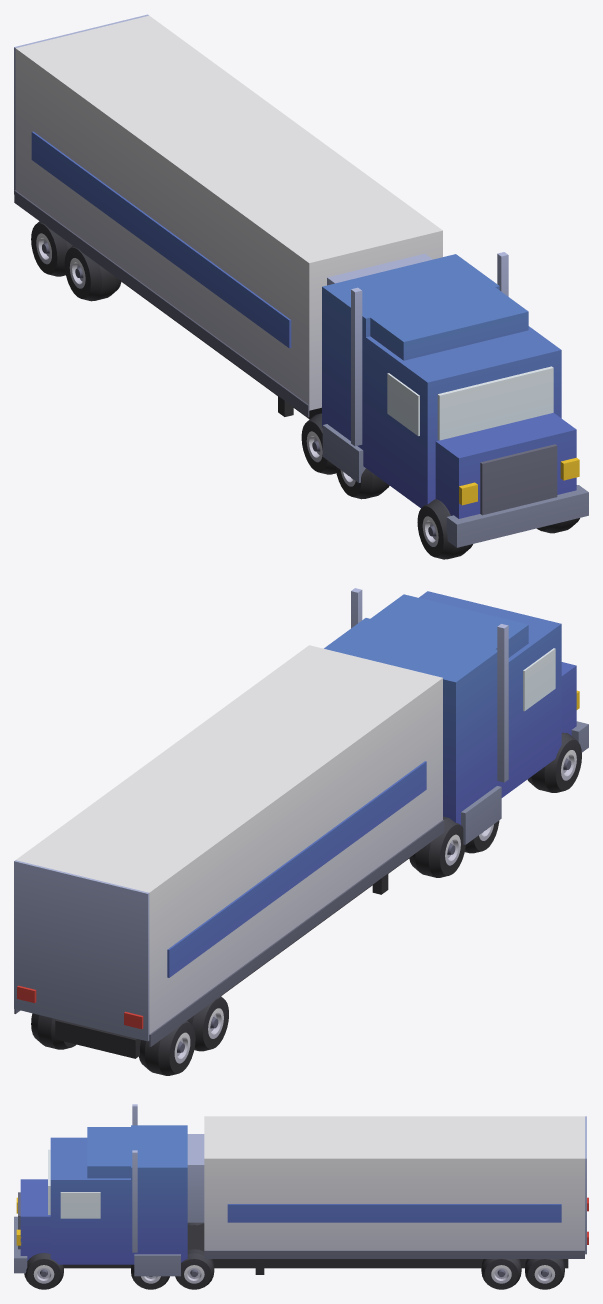
Rendered from reefer-A.glb.
3 renders of one model, top to bottom at view 1: azimuth 30°, elevation 25°; view 2: azimuth 150°, elevation 25°; view 3: azimuth 270°, elevation 25°, orthographic. The views are drawn at different scales.
Visible parts, largest first — view 1: body, wheel--3.0-l, wheel-3.85-l, wheel--3.65-l, wheel-1.6-l, wheel-2.25-l; view 2: body, wheel--3.65-l, wheel-1.6-l, wheel-3.85-l, wheel--3.0-l, wheel--3.65-r; view 3: body, wheel-1.6-r, wheel-3.85-r, wheel--3.0-r, wheel--3.65-r, wheel-2.25-r.
Boxes of the visible parts, left/top/right/bottom form: body: left=14, top=14, right=588, bottom=547; wheel--3.0-l: left=64, top=246, right=121, bottom=301; wheel-3.85-l: left=417, top=499, right=472, bottom=559; wheel--3.65-l: left=31, top=221, right=72, bottom=276; wheel-1.6-l: left=301, top=413, right=336, bottom=474; wheel-2.25-l: left=335, top=466, right=389, bottom=499; body: left=14, top=588, right=588, bottom=1058; wheel--3.65-l: left=139, top=1020, right=195, bottom=1075; wheel-1.6-l: left=409, top=816, right=465, bottom=877; wheel-3.85-l: left=527, top=732, right=581, bottom=792; wheel--3.0-l: left=187, top=996, right=228, bottom=1051; wheel--3.65-r: left=31, top=1013, right=76, bottom=1049; body: left=14, top=1104, right=588, bottom=1276; wheel-1.6-r: left=175, top=1249, right=214, bottom=1289; wheel-3.85-r: left=24, top=1253, right=63, bottom=1289; wheel--3.0-r: left=481, top=1258, right=521, bottom=1289; wheel--3.65-r: left=525, top=1258, right=564, bottom=1289; wheel-2.25-r: left=131, top=1264, right=169, bottom=1289.
Size of the model in its own units: 1.72 by 2.35 by 8.61.
1 material, 1 textured.
